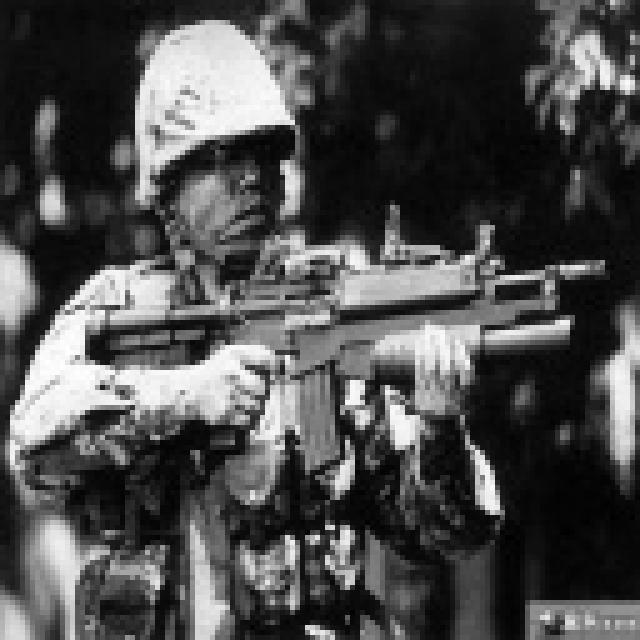Rifle: (61, 169, 640, 486)
